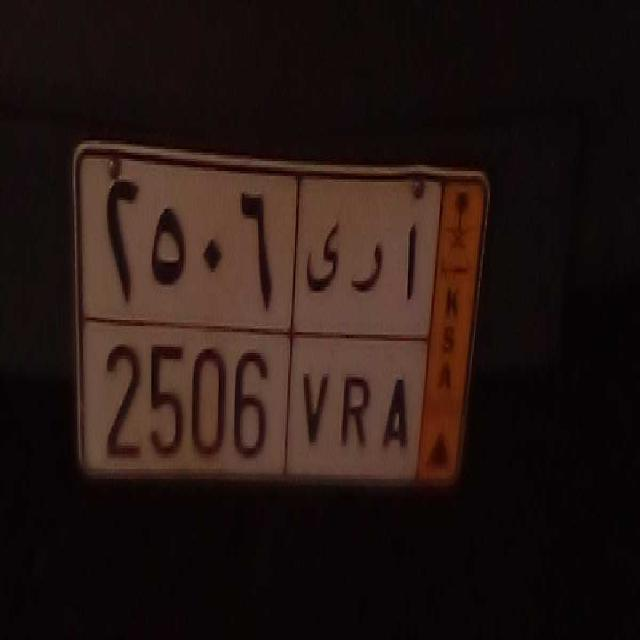license_plate: (78, 318, 422, 484)
